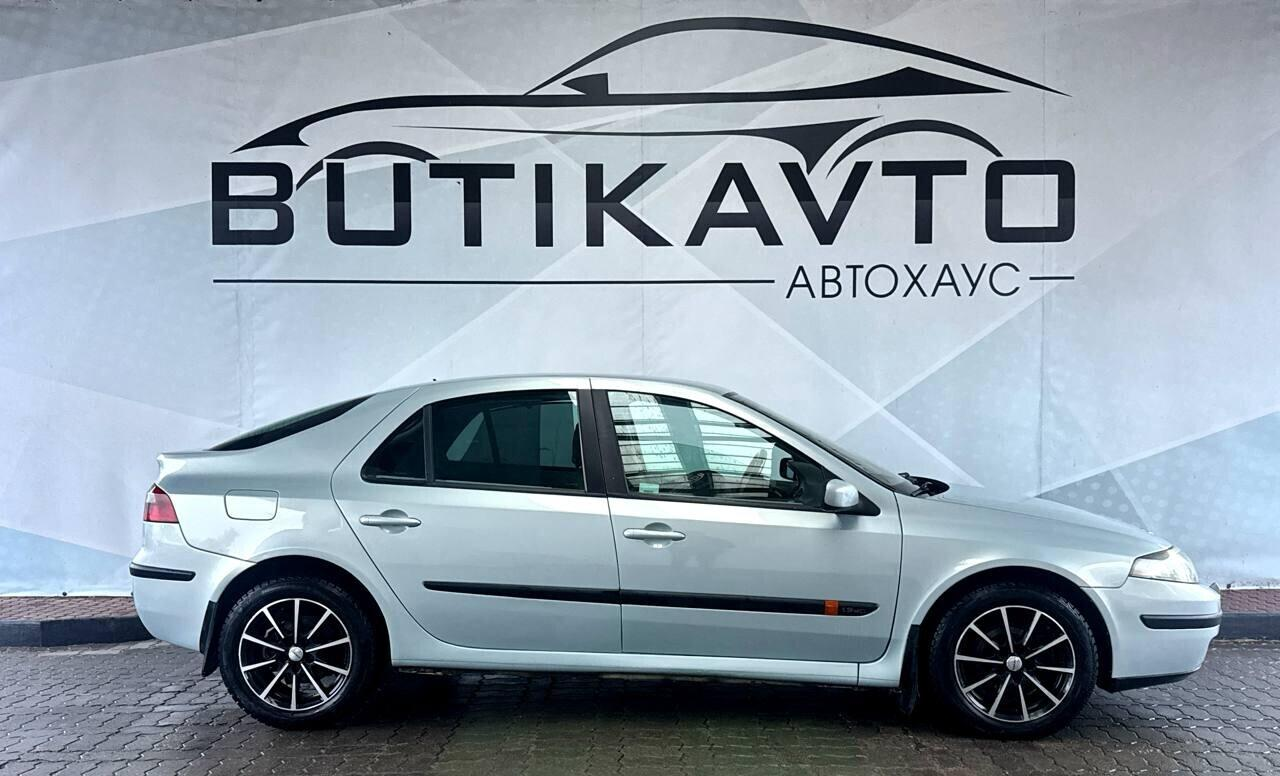Laguna_2001-2005: (129, 373, 1220, 738)
